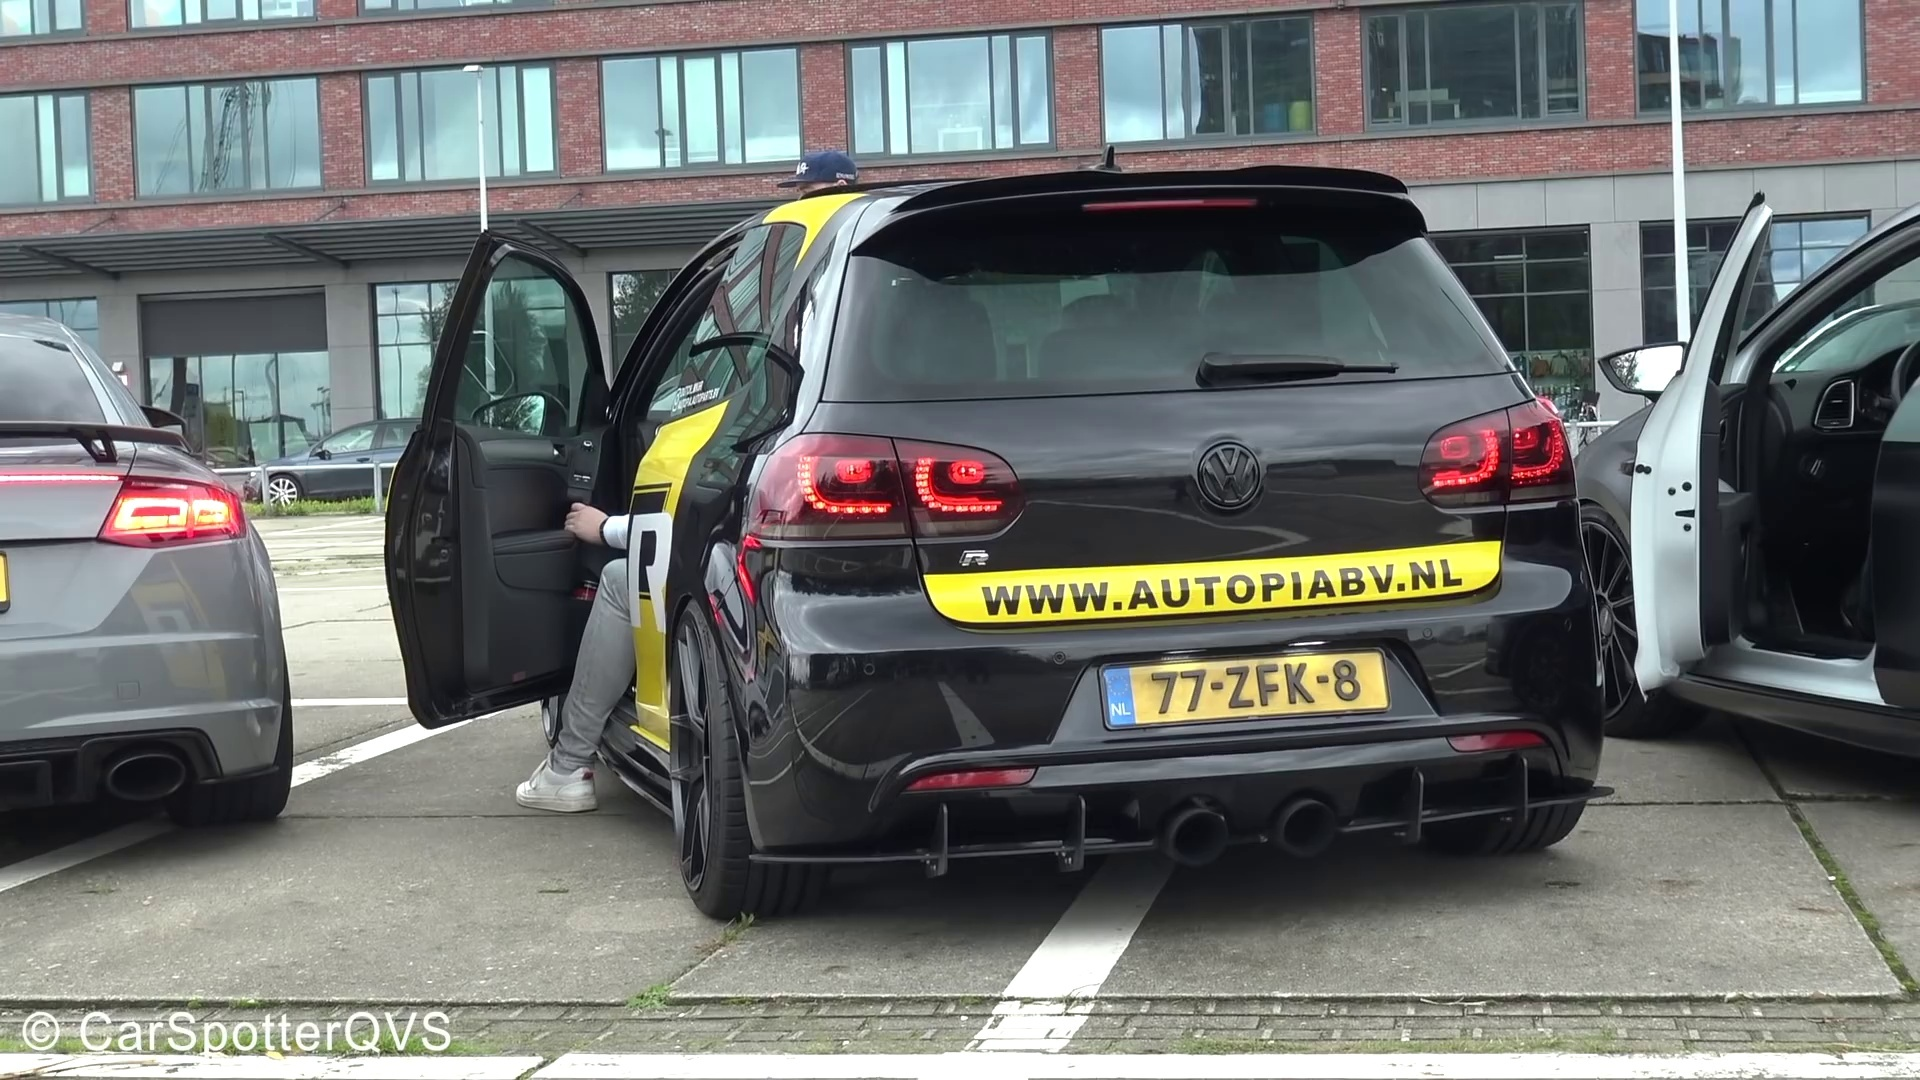number_plate: (1093, 645, 1396, 727)
